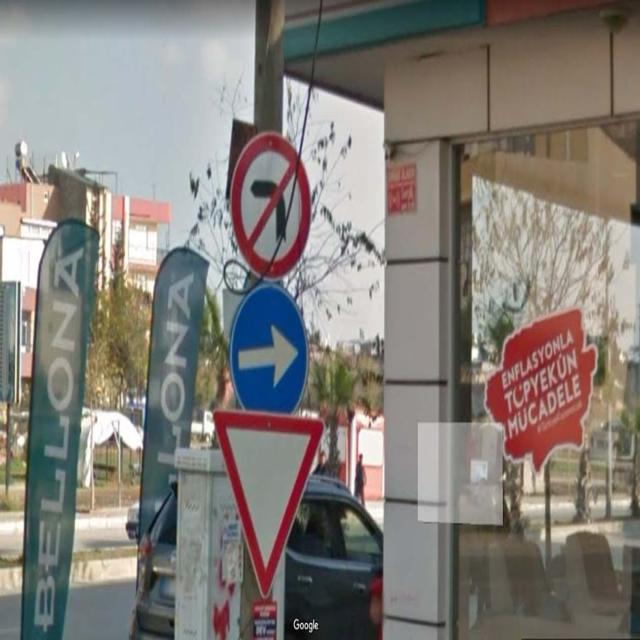sag: (229, 286, 309, 422)
soladonulmez: (230, 130, 311, 282)
